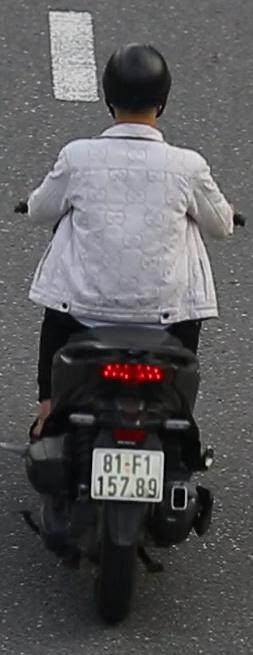LP: (87, 445, 162, 506)
helmet: (102, 36, 179, 153)
